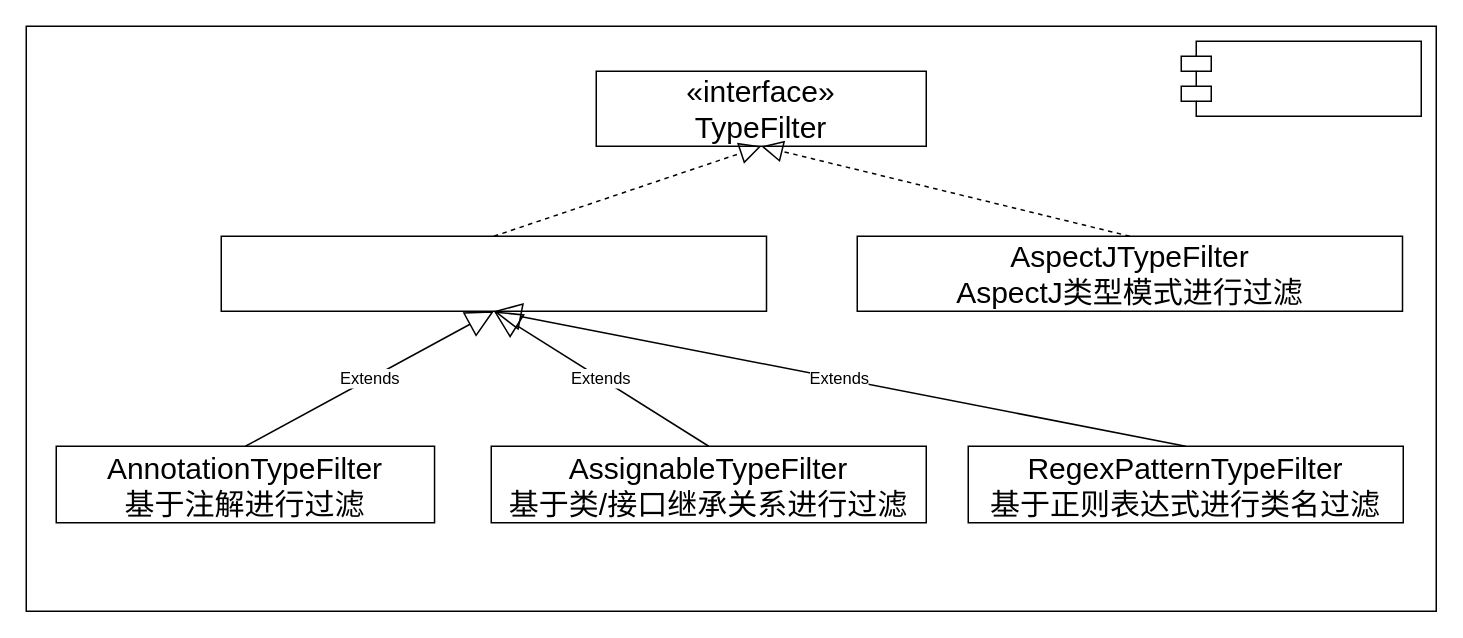
Some shapes in this 1463 by 638 pixel diagram are drawn without their labels. Here are the shapes that lost their labels. From the top down, the centre of each, then its label:
At (x=1300, y=78): "spring-core".
At (x=493, y=273): "AbstractTypeHierarchyTraversingFilter".
